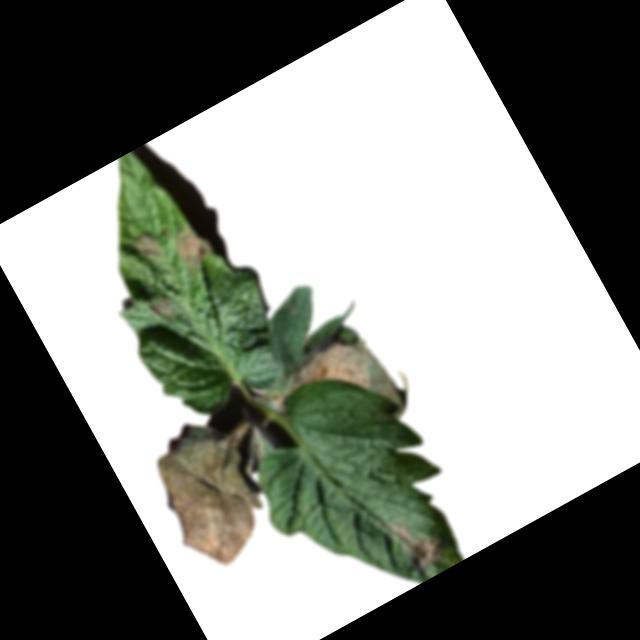Late_blight: (136, 409, 285, 577), (252, 324, 388, 435), (382, 502, 452, 577), (167, 221, 215, 272), (130, 228, 162, 261), (145, 289, 176, 321)
